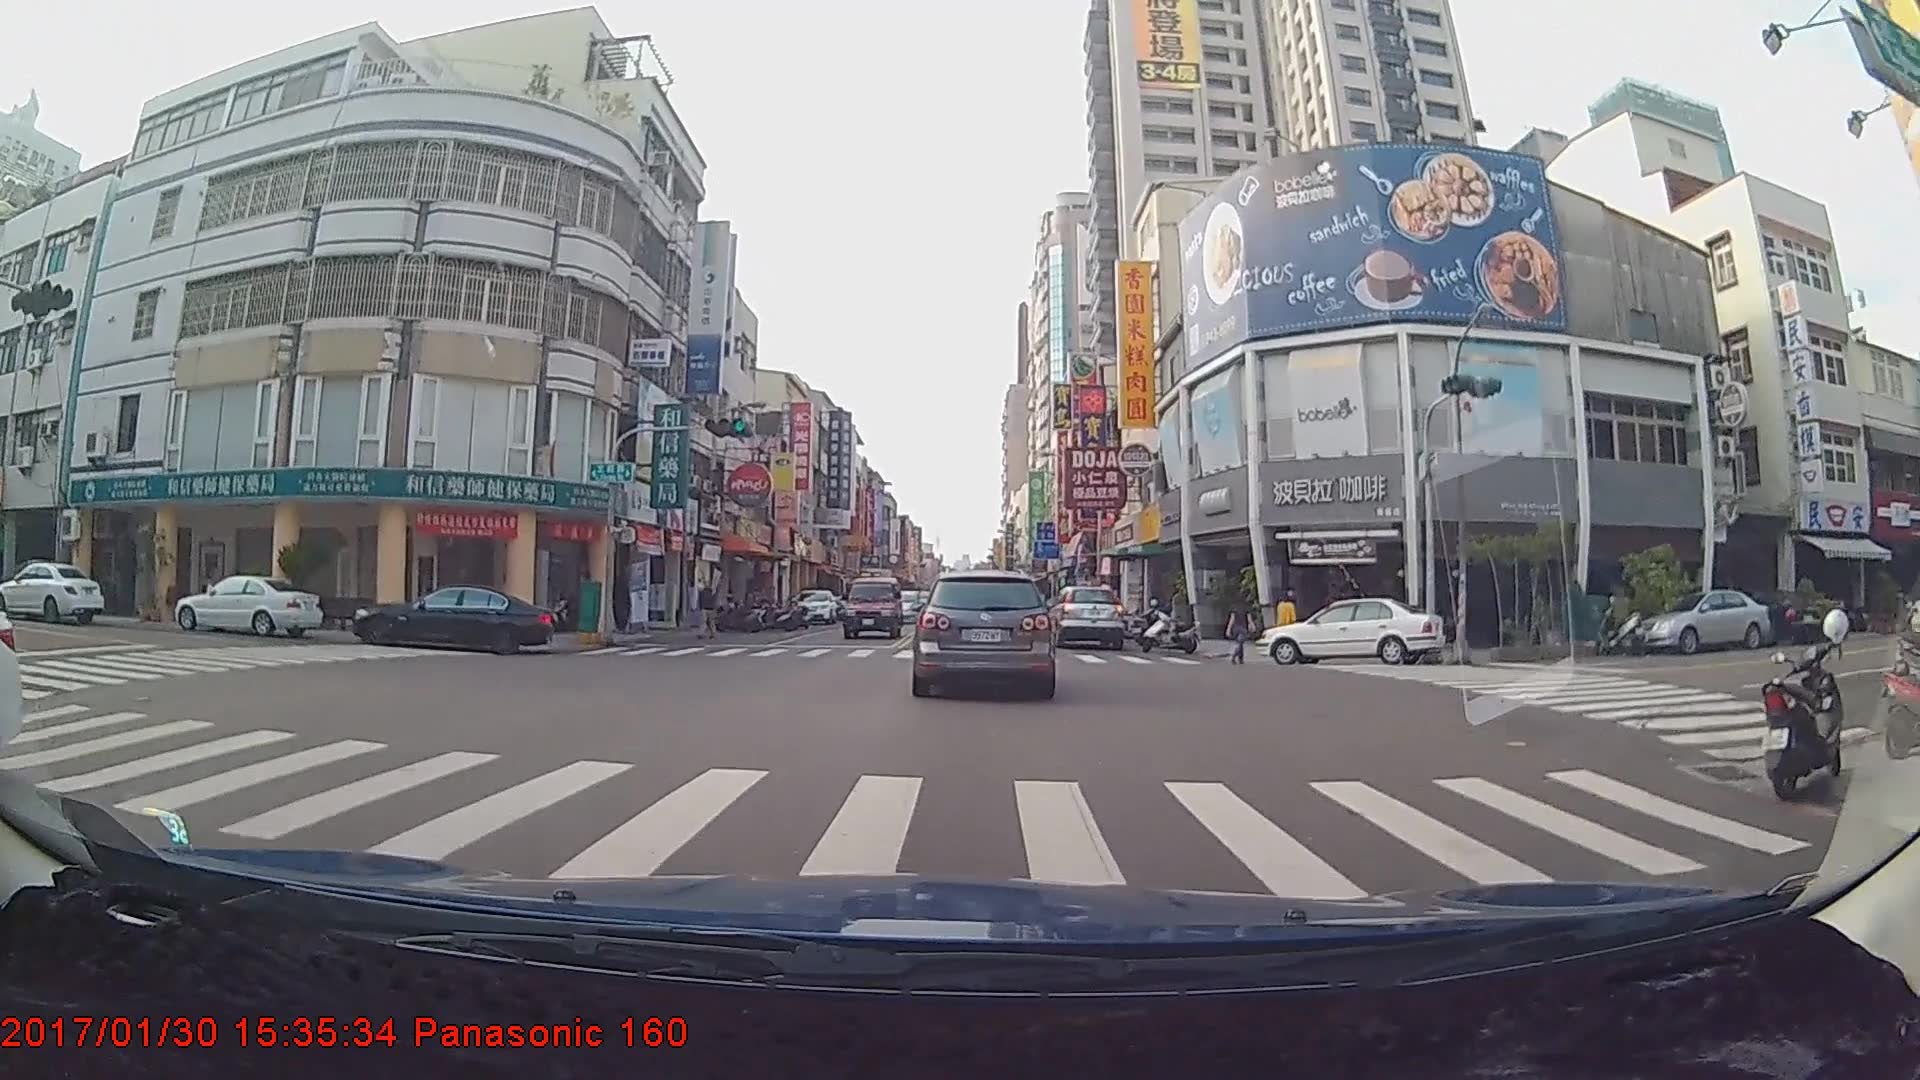pedestrian: (1228, 591, 1258, 667), (1274, 590, 1301, 662), (696, 577, 719, 641)
vehicle: (913, 569, 1054, 696), (348, 581, 553, 652), (1258, 596, 1445, 664), (176, 572, 327, 639), (1633, 587, 1770, 654), (2, 556, 108, 626), (1047, 581, 1124, 648), (838, 575, 903, 640), (790, 585, 837, 624)
